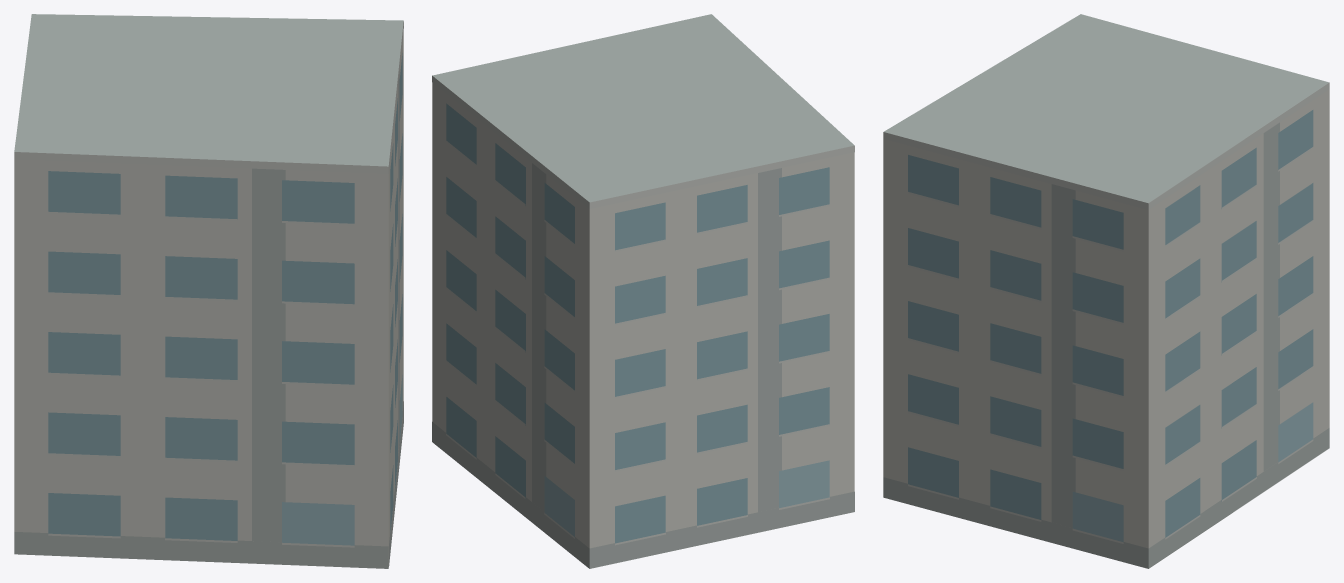
The model's file is survey-upis-32848676.glb.
3 renders of one model, left to right at view 1: azimuth 30°, elevation 25°; view 2: azimuth 150°, elevation 25°; view 3: azimuth 270°, elevation 25°, orthographic. The views are drawn at different scales.
Visible parts, largest first — view 1: survey-upis-32848676.tmp; view 2: survey-upis-32848676.tmp; view 3: survey-upis-32848676.tmp.
Part boxes in pixels (box(x1,y1,x2,y2)): survey-upis-32848676.tmp: box(14, 14, 403, 568); survey-upis-32848676.tmp: box(432, 14, 854, 568); survey-upis-32848676.tmp: box(883, 14, 1329, 568).
Bounding box in the file's own units: 14.66 × 13.2 × 14.61.
